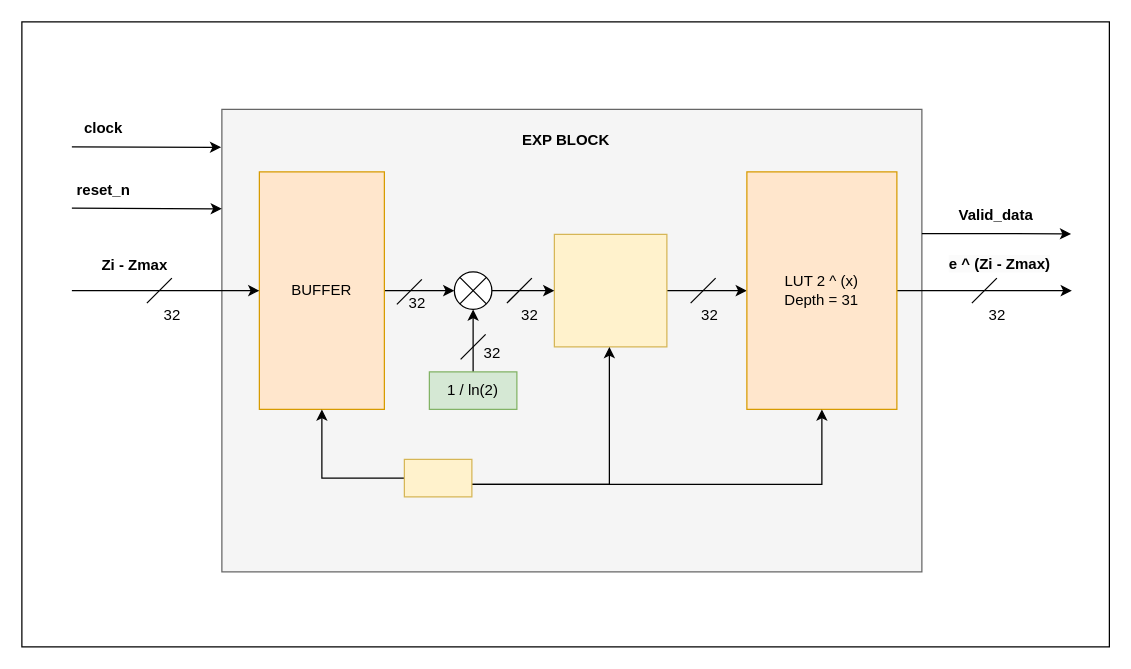
Image size: 1131x669. Some labels were removed from this diagram. Each missing label, with the centre of its shape:
"Counter" belongs at [437,477].
"floating point to fixed point" belongs at [610,290].
